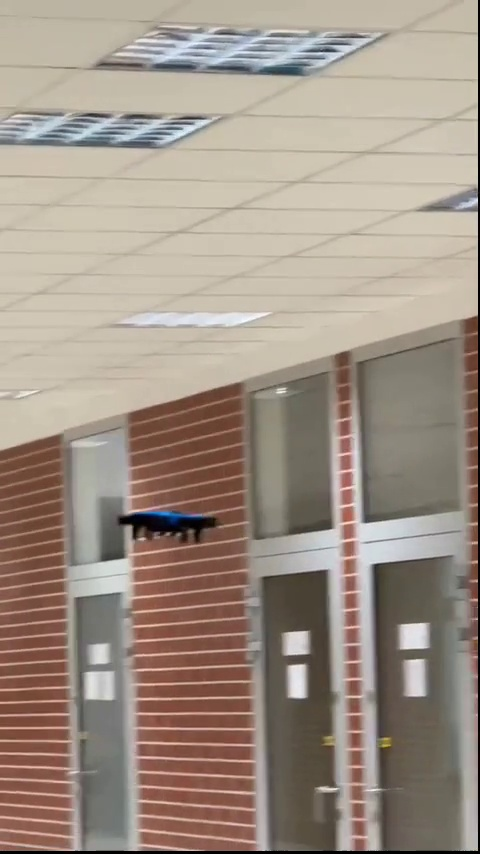drone: (115, 507, 224, 547)
